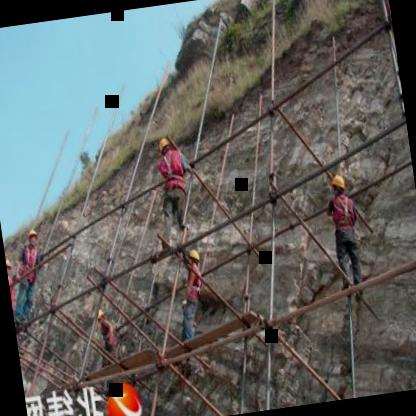helmet: (328, 168, 350, 199), (153, 133, 175, 163), (185, 246, 205, 270), (24, 224, 40, 247), (93, 304, 107, 324), (5, 256, 16, 280)
